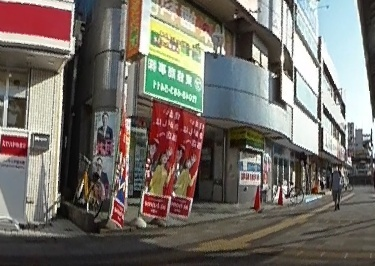person: (329, 165, 341, 211), (373, 163, 375, 200)
